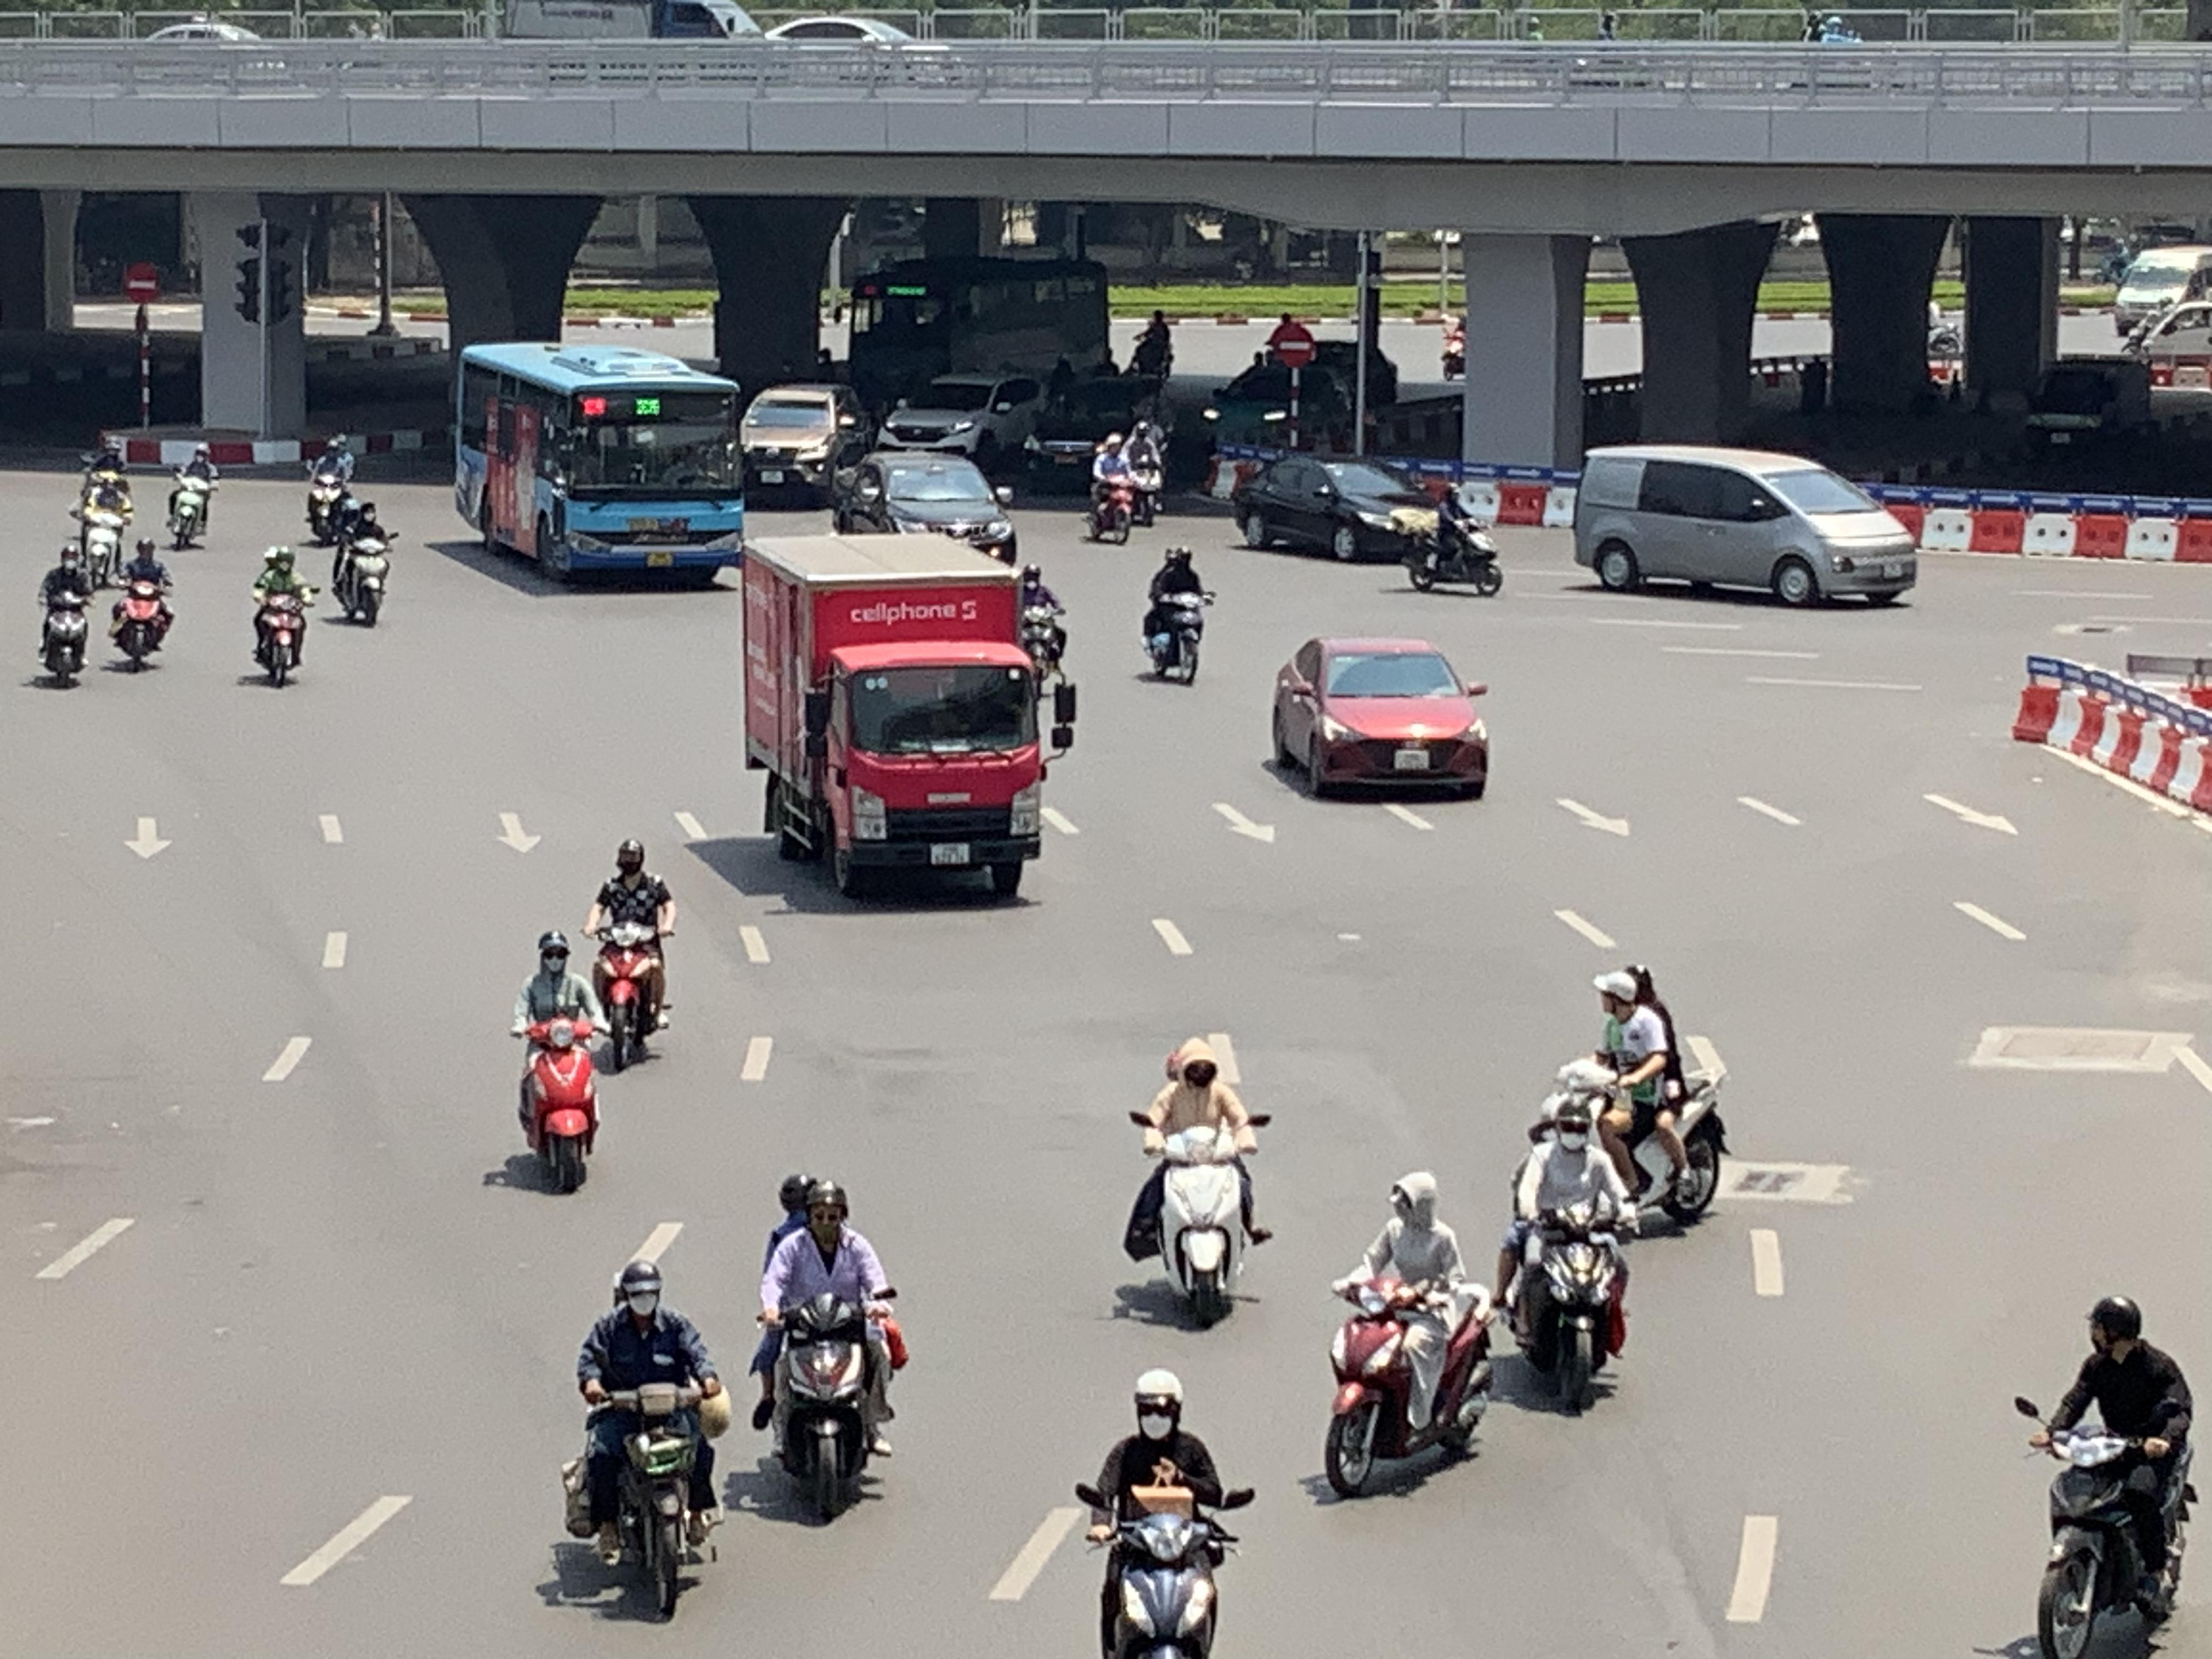BSV: (928, 843, 970, 864), (1395, 749, 1430, 770)
bus: (451, 340, 747, 589)
car: (1569, 444, 1921, 608), (1268, 634, 1491, 802), (1233, 455, 1442, 563), (838, 446, 1019, 565), (738, 383, 860, 507), (2114, 244, 2212, 336)
motorbike: (2010, 1293, 2200, 1659), (557, 1258, 728, 1622), (1320, 1169, 1498, 1500), (751, 1175, 902, 1527), (1531, 965, 1728, 1234), (1076, 1368, 1252, 1659), (1496, 1091, 1634, 1417), (1125, 1030, 1270, 1333), (512, 931, 604, 1194), (587, 836, 676, 1072), (1400, 479, 1503, 596), (1141, 544, 1214, 687), (249, 544, 312, 687), (329, 493, 395, 627), (110, 535, 174, 671), (35, 542, 92, 687), (71, 469, 131, 587), (1015, 561, 1071, 673), (303, 436, 357, 545), (1083, 432, 1136, 545), (165, 441, 219, 549), (73, 430, 134, 516), (1125, 416, 1167, 526), (1129, 307, 1176, 389)
truck: (738, 532, 1073, 903)
